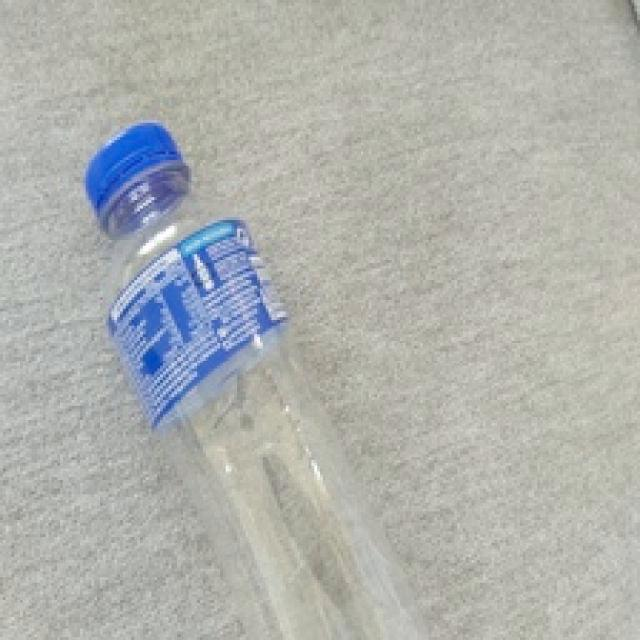bottle: (84, 121, 426, 640)
